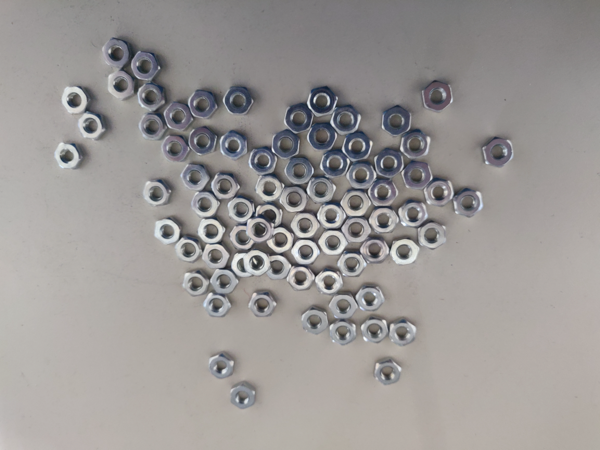nut: (481, 135, 515, 169), (370, 147, 406, 178), (423, 78, 455, 111), (306, 85, 339, 117), (452, 186, 484, 218), (223, 84, 254, 117), (381, 104, 411, 138), (284, 158, 319, 187), (318, 150, 353, 179), (343, 133, 375, 164), (368, 206, 400, 237), (52, 141, 85, 171), (186, 125, 219, 155), (328, 317, 362, 346), (304, 175, 339, 203), (133, 83, 166, 112), (284, 265, 319, 292), (368, 178, 399, 208), (283, 103, 314, 133), (307, 120, 338, 150), (401, 128, 433, 157), (216, 131, 248, 160), (270, 130, 302, 159), (223, 195, 255, 224), (161, 102, 192, 131), (153, 217, 184, 246), (60, 84, 88, 116), (180, 163, 212, 191), (355, 283, 385, 312), (189, 88, 218, 118), (232, 251, 262, 280), (209, 172, 240, 200), (334, 103, 362, 134), (389, 239, 421, 266), (99, 39, 131, 66), (345, 163, 377, 190), (290, 239, 322, 266), (302, 305, 329, 337), (418, 220, 447, 249), (76, 111, 106, 139), (342, 188, 370, 218), (243, 249, 273, 277), (265, 228, 295, 256), (386, 318, 417, 345), (131, 51, 162, 78), (281, 184, 308, 215), (225, 226, 256, 253), (248, 290, 277, 318), (398, 200, 427, 228), (108, 71, 136, 100), (191, 191, 220, 219), (360, 317, 388, 346), (254, 202, 283, 230), (373, 358, 403, 385), (423, 179, 454, 205), (337, 253, 368, 279), (312, 271, 344, 296), (207, 353, 236, 380), (361, 237, 388, 266), (292, 212, 319, 241), (226, 384, 256, 410), (403, 163, 433, 189), (342, 218, 372, 244), (136, 116, 167, 141), (161, 135, 189, 162), (330, 294, 359, 320), (201, 246, 232, 270), (319, 230, 346, 257), (197, 219, 225, 245), (250, 147, 276, 175), (140, 182, 169, 207), (255, 176, 284, 201), (201, 295, 232, 318), (181, 271, 210, 295), (208, 271, 237, 295), (245, 220, 275, 243), (174, 238, 202, 262), (316, 205, 346, 227), (265, 258, 292, 281)
